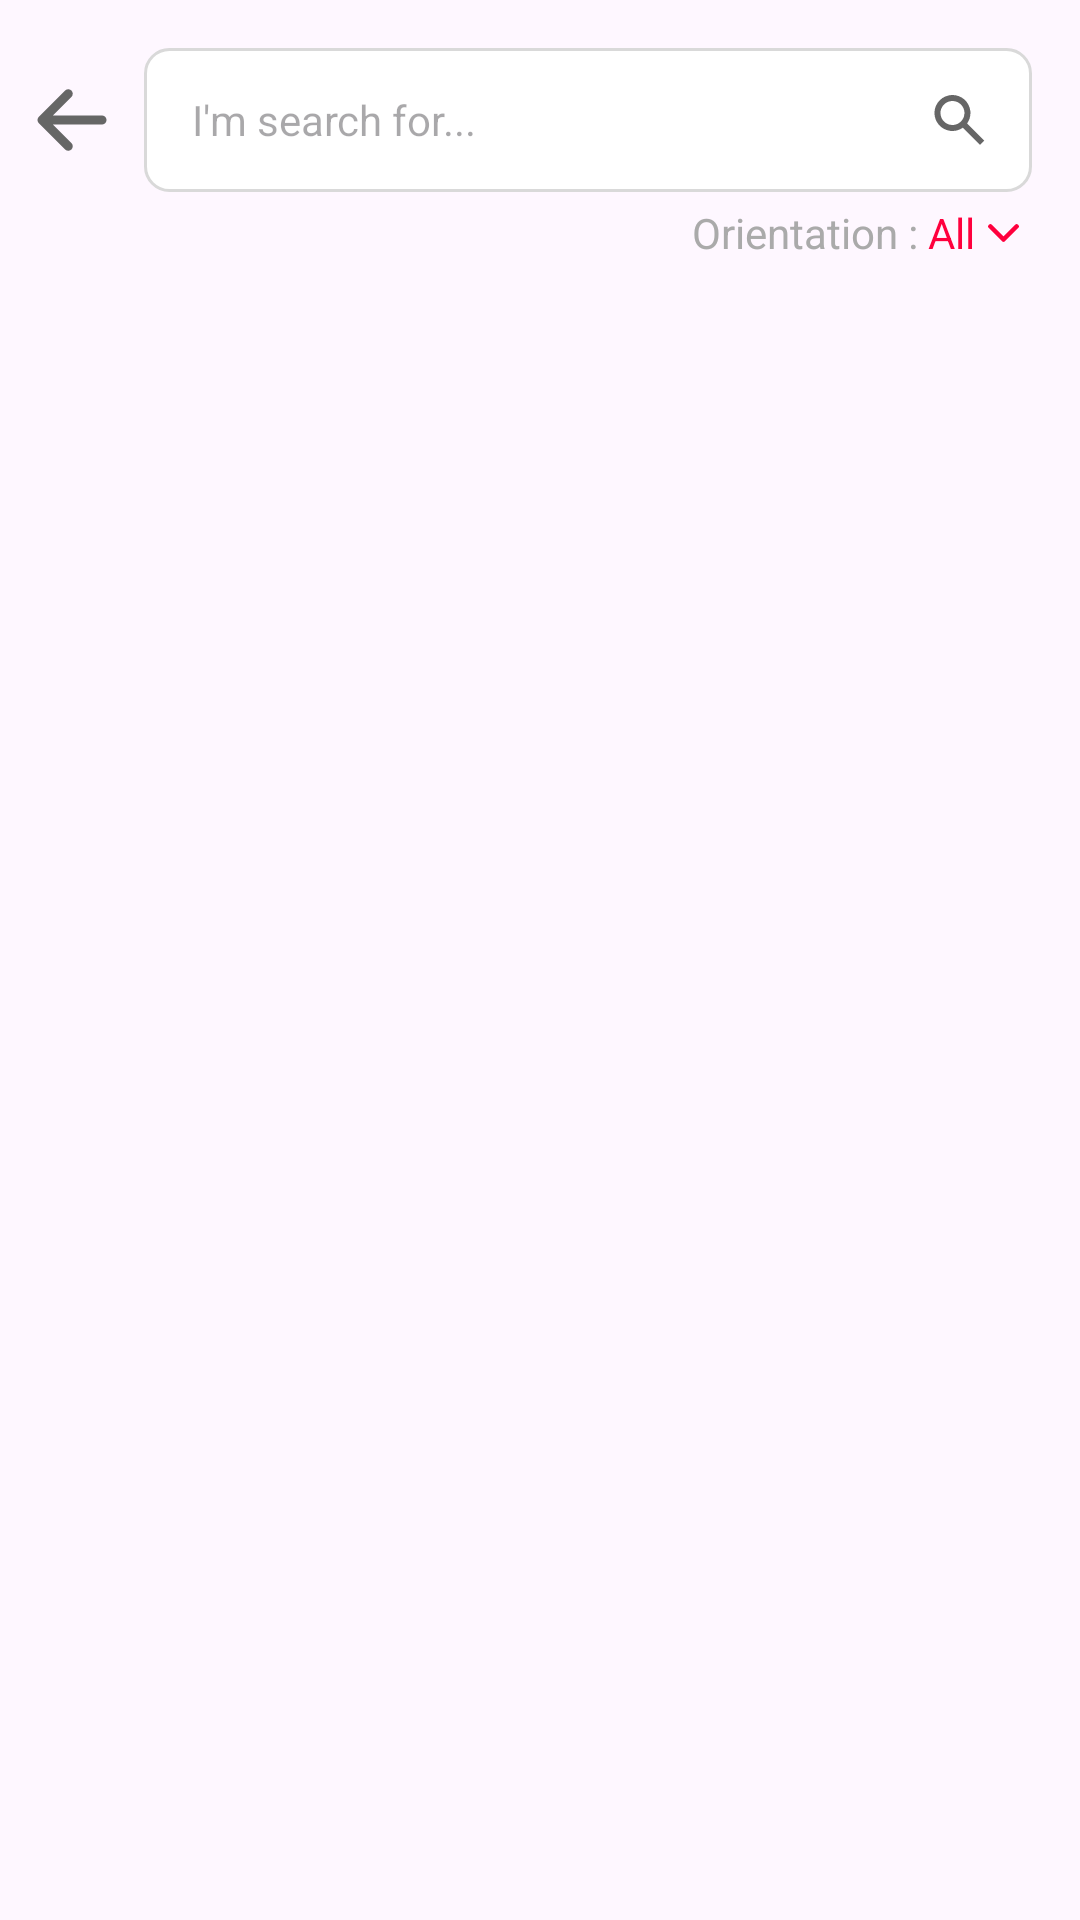

Named icons in this screenshot (1080 × 1920) and their centers, [x,y]:
arrow down: [1003,233]
back: [72,120]
